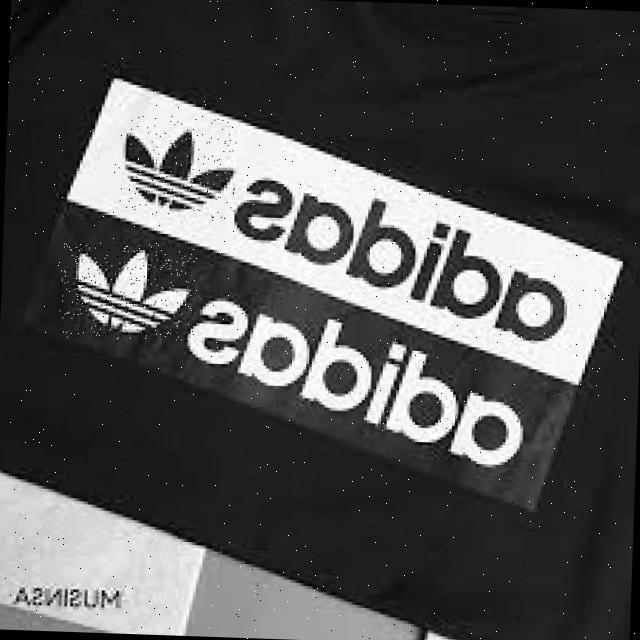Adidas: (111, 113, 237, 225), (59, 241, 196, 342)
